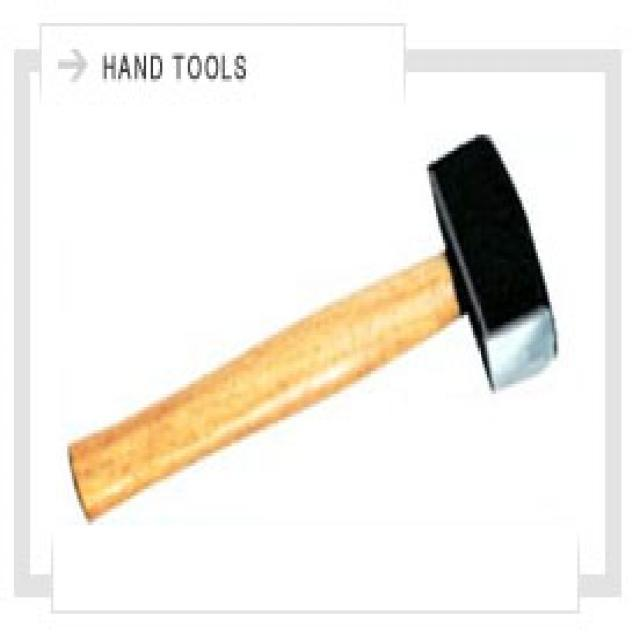hammer: (59, 120, 568, 531)
